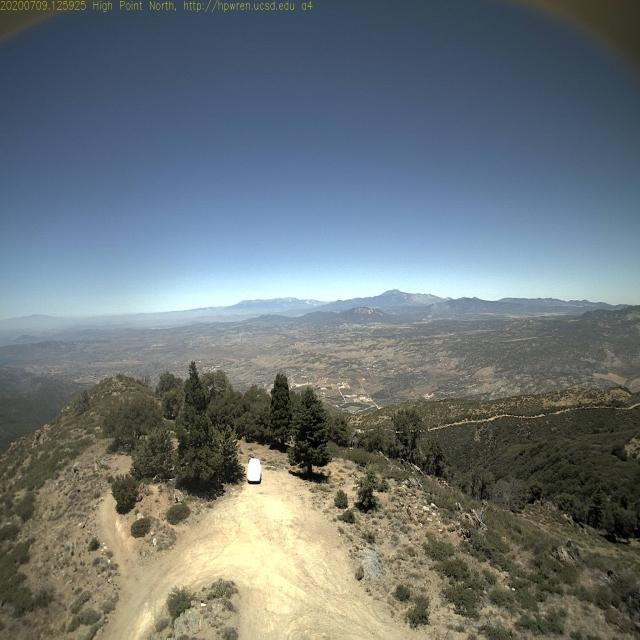smoke: (421, 300, 454, 322)
